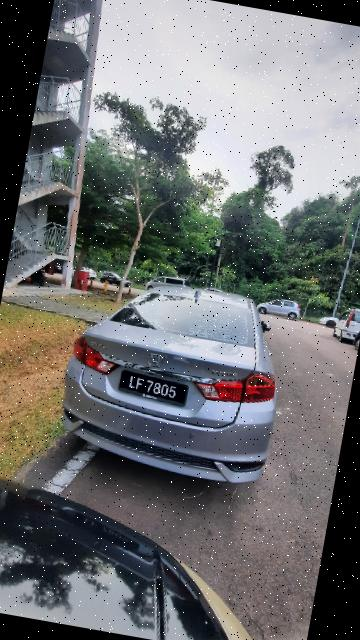License_Plate: (112, 366, 192, 413)
car: (38, 262, 299, 502)
